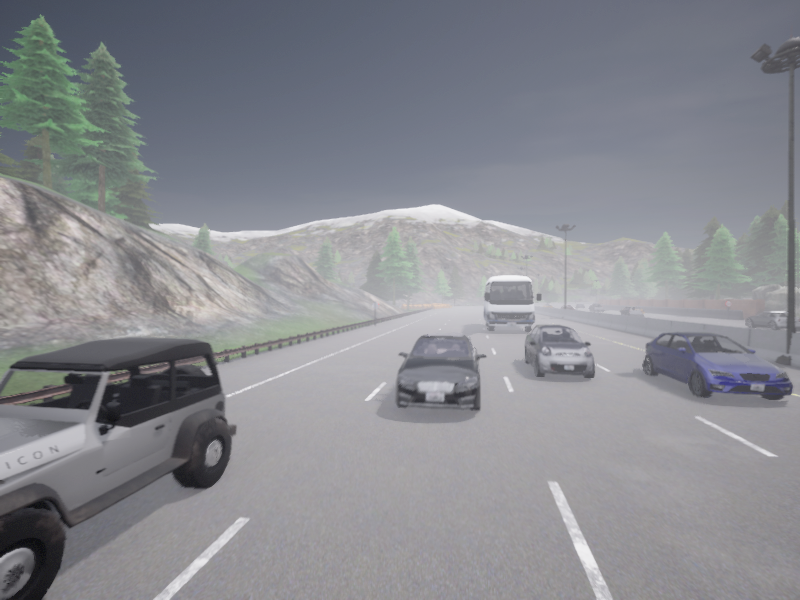vehicle: (0, 337, 236, 599), (643, 331, 792, 399), (395, 332, 486, 410), (524, 324, 594, 378), (484, 275, 540, 332), (746, 311, 799, 330), (619, 307, 642, 316), (622, 305, 644, 313), (589, 304, 603, 311), (559, 305, 573, 309), (542, 303, 552, 307), (576, 303, 584, 307)
